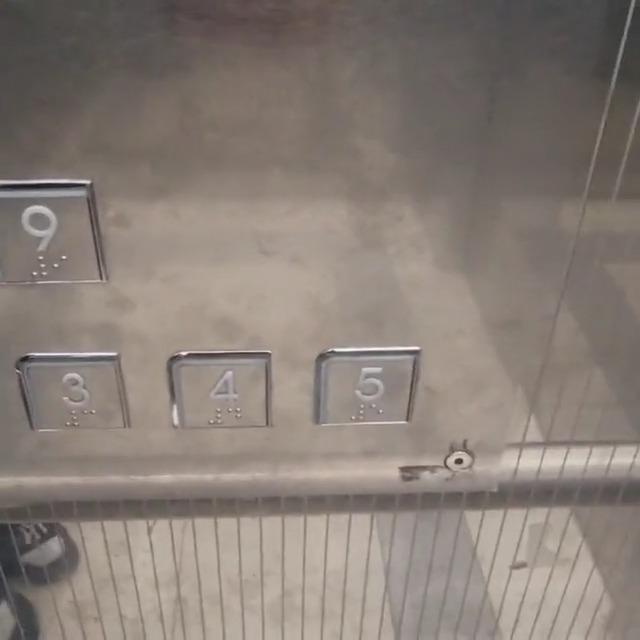button: (0, 182, 106, 297), (13, 351, 133, 445), (321, 345, 419, 431), (178, 352, 273, 436)
